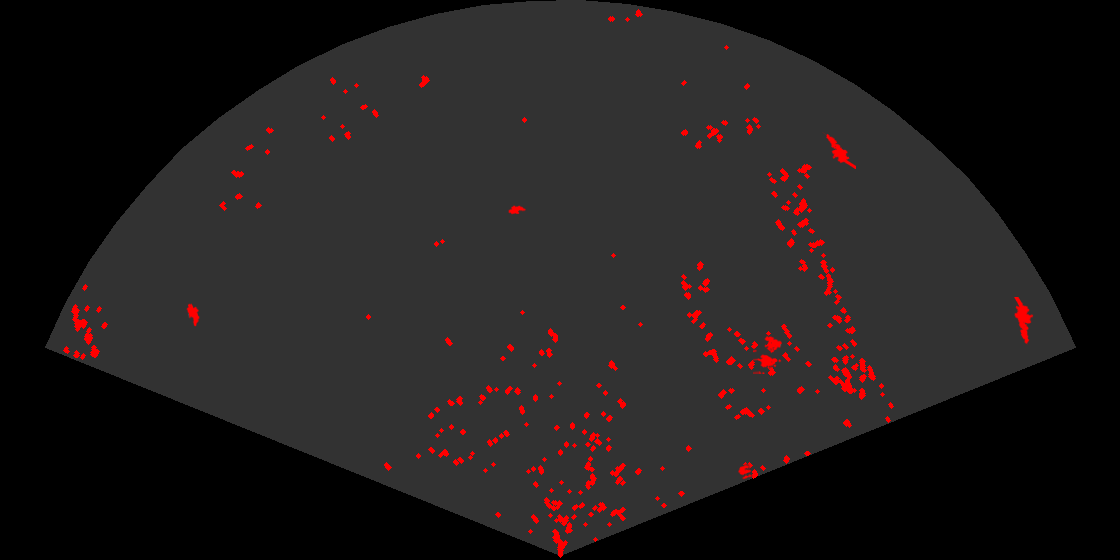AUV: (185, 302, 200, 328), (507, 205, 527, 216)
ball: (737, 463, 753, 481)
cage: (753, 334, 783, 374)
frogman: (821, 132, 856, 169), (1013, 297, 1035, 345)
